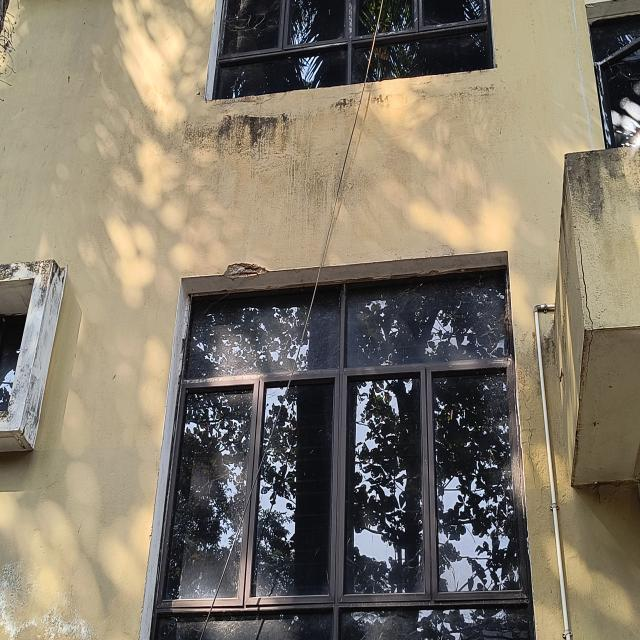crack: (578, 231, 595, 388)
peeling: (223, 262, 267, 278)
stain_mould: (565, 148, 640, 228)
